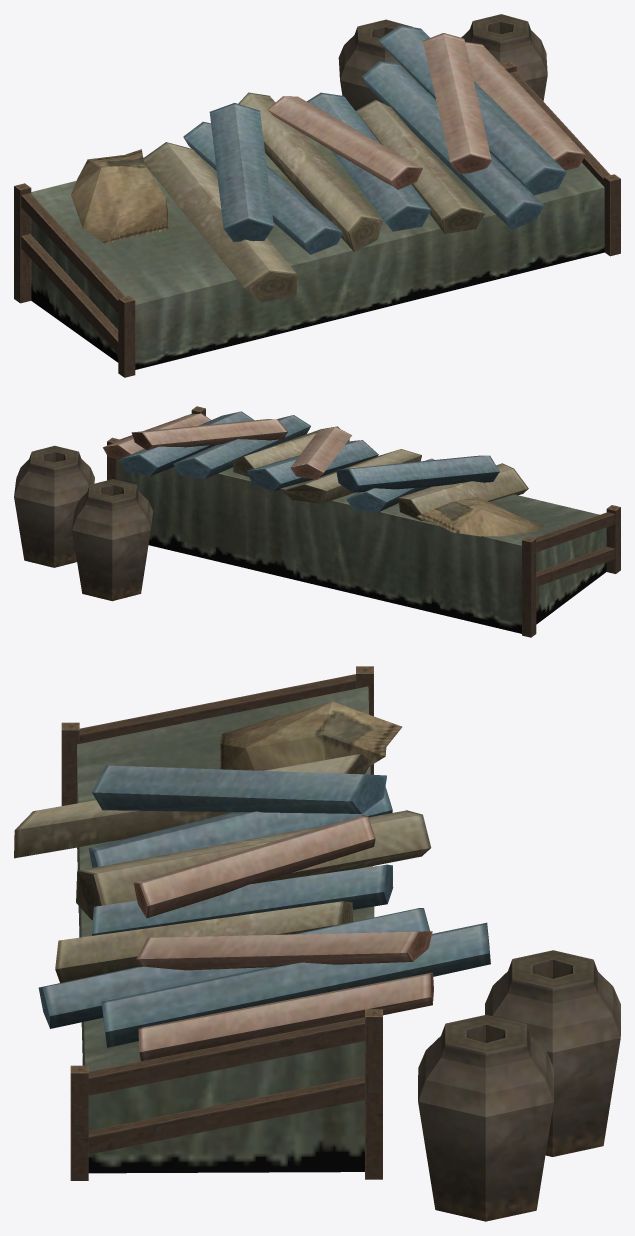
3 views of the same model, one above another, from view 1: azimuth 30°, elevation 25°; view 2: azimuth 150°, elevation 25°; view 3: azimuth 270°, elevation 25° (orthographic). The views are drawn at different scales.
Parts seen in each view (by area): view 1: qingmo_obj_028 [10484195]; view 2: qingmo_obj_028 [10484195]; view 3: qingmo_obj_028 [10484195].
Part boxes in pixels (x1,y1,x2,y2): qingmo_obj_028 [10484195]: (14,14,620,377); qingmo_obj_028 [10484195]: (14,406,620,637); qingmo_obj_028 [10484195]: (14,666,620,1221).
Size of the model in its own units: 33.59 by 21.48 by 8.2.
Materials: 1 (1 with a texture image).
